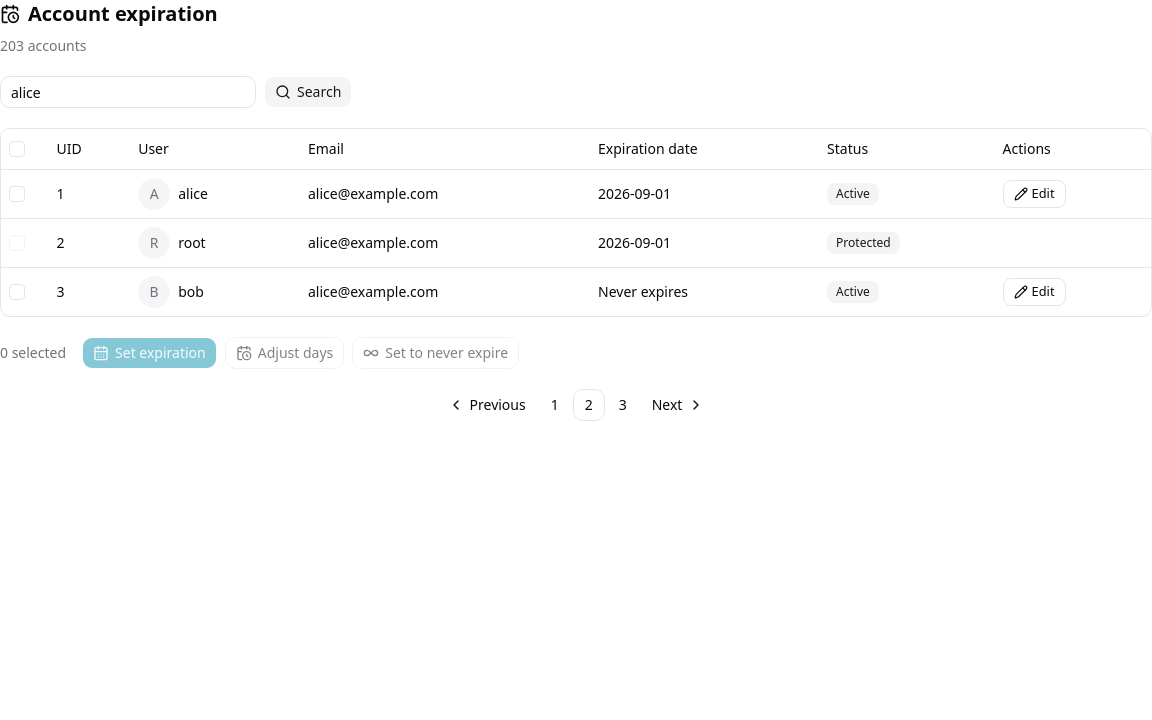
Test case: ExpirationPage › requires a date for bulk setting
Click the checkbox named "Select alice" at point(17, 194), box [9,186,25,202]
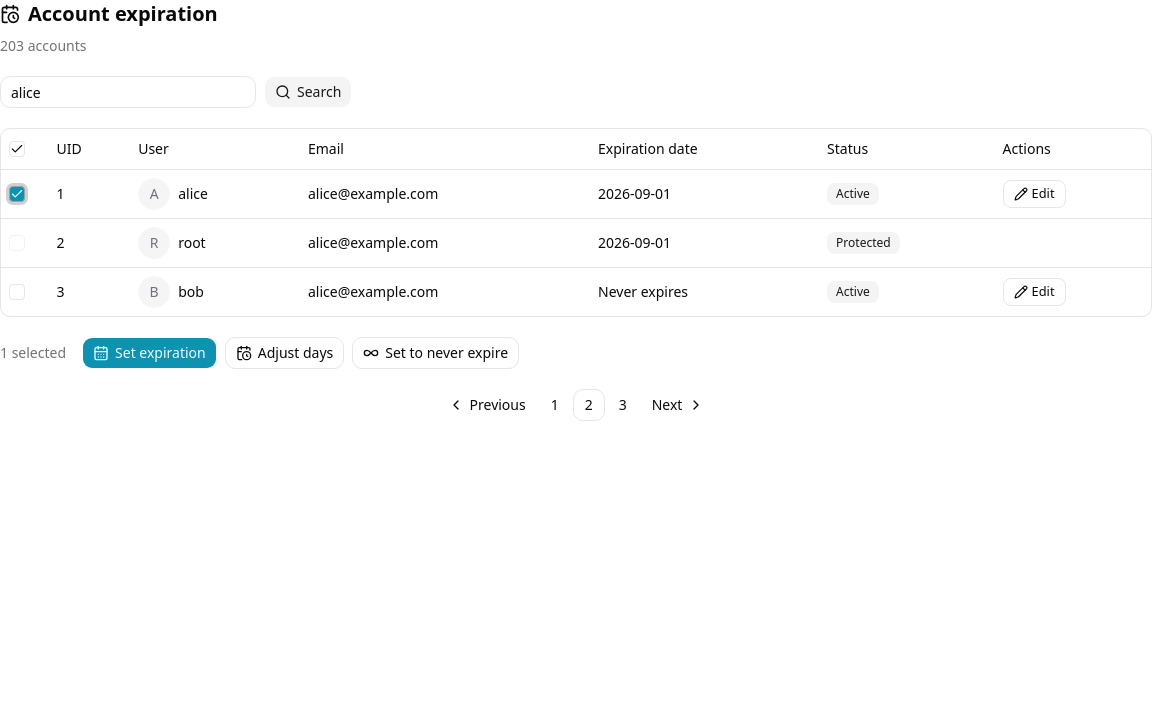
Click the button "Set expiration" at point(149, 352), box [82,336,217,368]
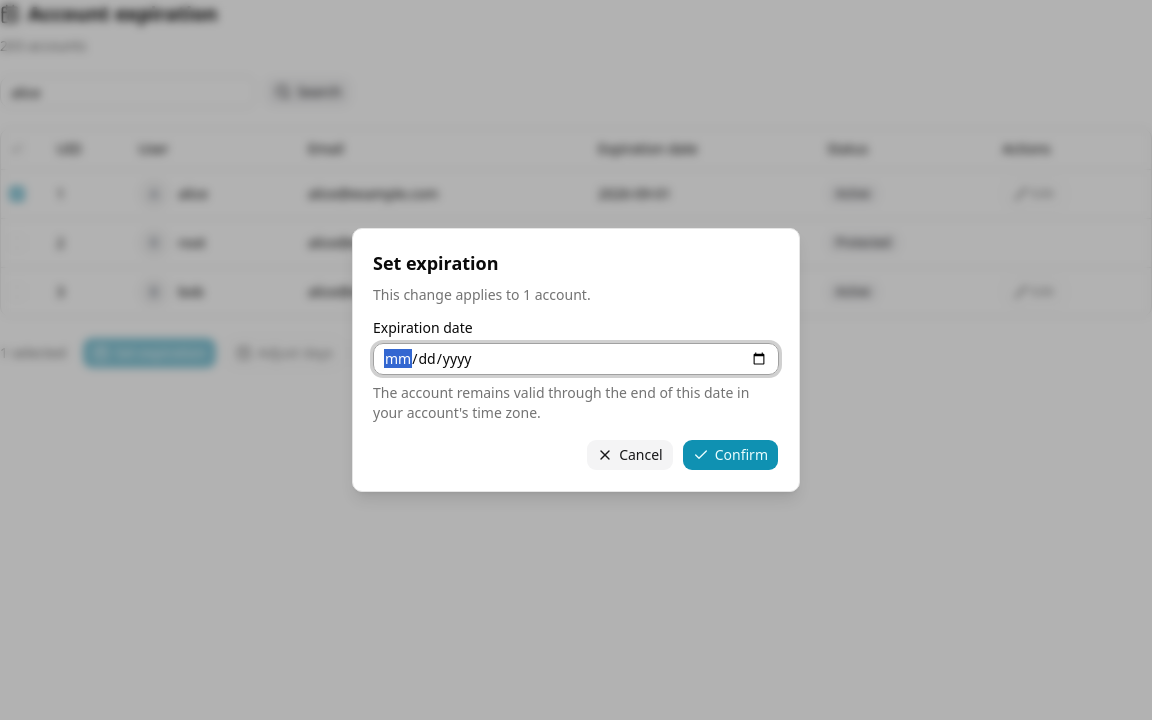
Click the button "Confirm" at point(730, 455), box [682,439,779,471]
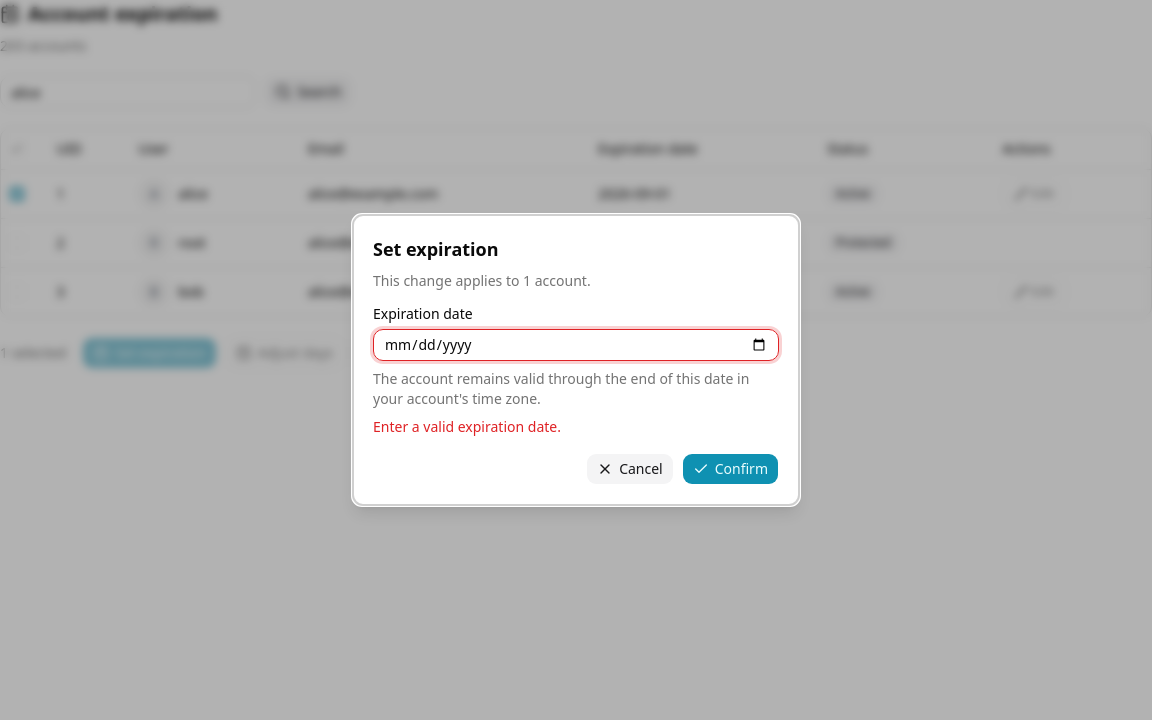
expect the message shows "valid expiration date": met, box [373,417,561,436]
